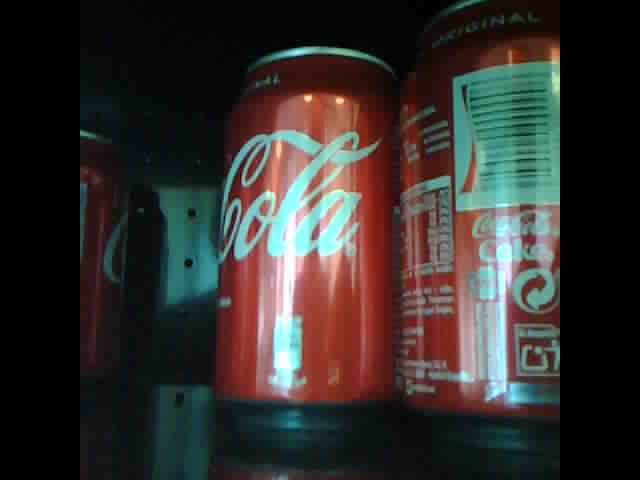coca cola: (396, 8, 559, 421), (217, 44, 398, 412), (79, 125, 132, 384)
